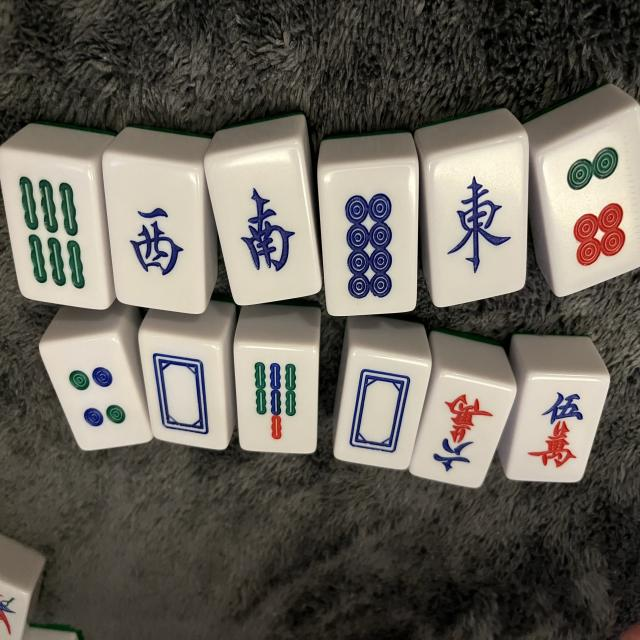bai: (333, 348, 432, 472), (141, 336, 232, 452)
east: (428, 132, 529, 308)
m5: (508, 378, 612, 484)
m6: (410, 370, 520, 488)
s6: (0, 151, 116, 315)
s7: (234, 343, 318, 453)
south: (208, 140, 324, 308)
t4: (41, 334, 156, 452)
t6: (541, 103, 640, 300)
t8: (318, 158, 419, 320)
west: (106, 154, 206, 315)
